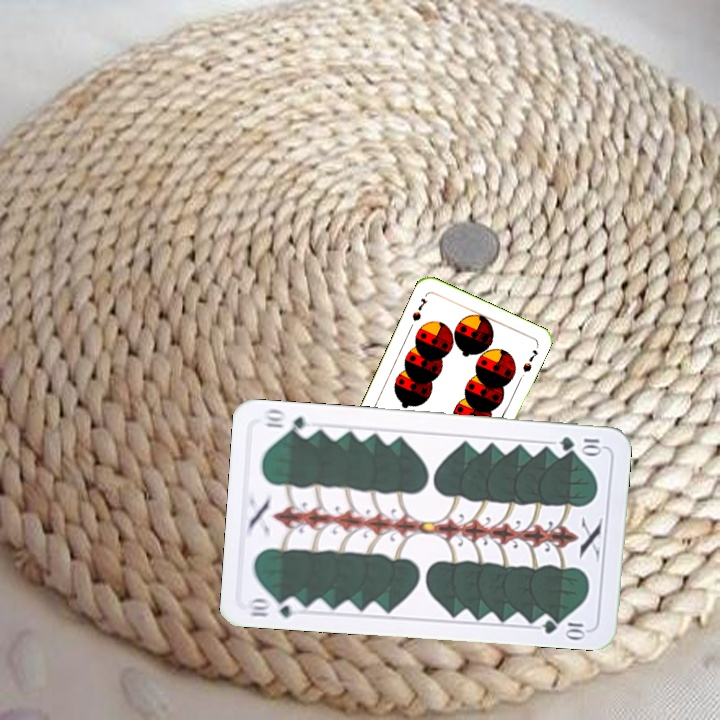G10: (244, 593, 304, 620), (555, 433, 605, 456)
S7: (408, 294, 430, 324)
